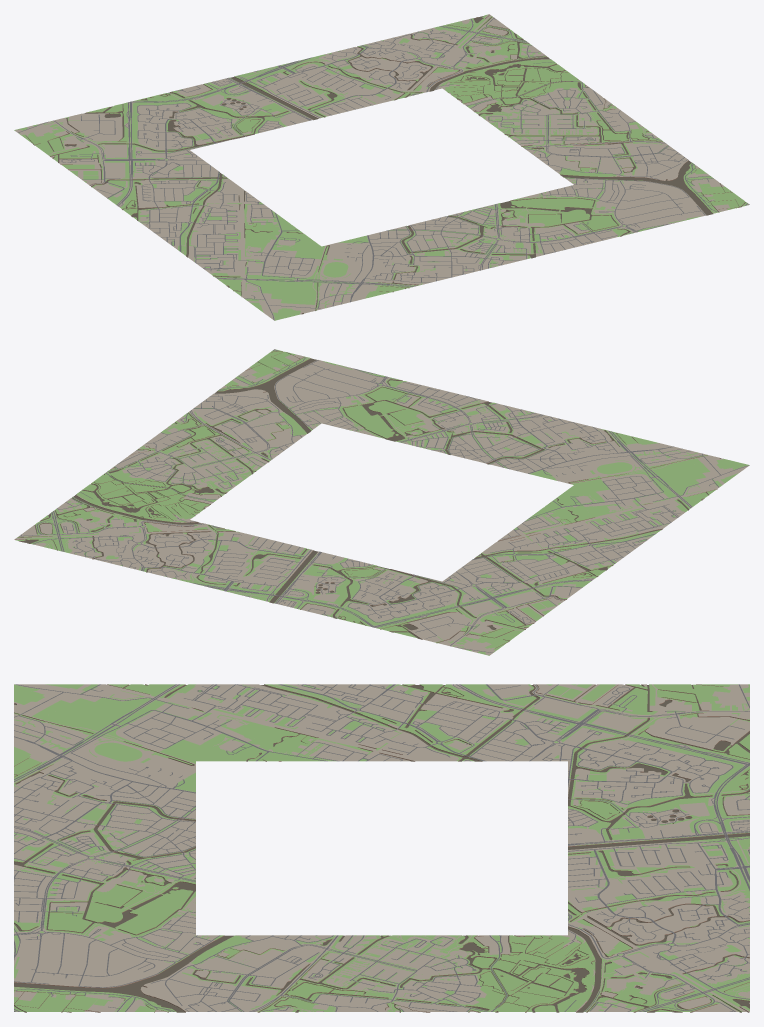
Rendered from ground_backdrop.glb.
The picture shows the model from 3 angles, top to bottom: view 1: azimuth 30°, elevation 25°; view 2: azimuth 150°, elevation 25°; view 3: azimuth 270°, elevation 25°; orthographic projection. The views are drawn at different scales.
Parts seen in each view (by area): view 1: ground_backdrop_s, ground_backdrop_n, ground_backdrop_e, ground_backdrop_w; view 2: ground_backdrop_s, ground_backdrop_n, ground_backdrop_e, ground_backdrop_w; view 3: ground_backdrop_s, ground_backdrop_n, ground_backdrop_w, ground_backdrop_e.
Boxes of the visible parts, x1,y1,x2,y2 form: ground_backdrop_s: (198, 149, 749, 320); ground_backdrop_n: (14, 14, 550, 174); ground_backdrop_e: (442, 59, 672, 184); ground_backdrop_w: (75, 149, 321, 264); ground_backdrop_s: (198, 349, 749, 520); ground_backdrop_n: (14, 495, 550, 655); ground_backdrop_e: (75, 405, 321, 519); ground_backdrop_w: (442, 485, 672, 610); ground_backdrop_s: (14, 684, 230, 1012); ground_backdrop_n: (568, 684, 749, 1012); ground_backdrop_w: (196, 684, 576, 761); ground_backdrop_e: (196, 935, 576, 1012).
Size of the model in its own units: 3583 by 2.5 by 3400.
